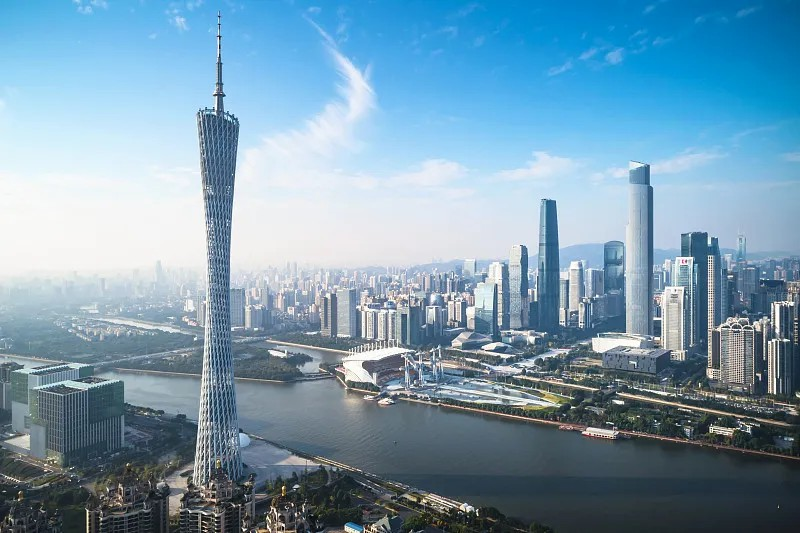Canton: (195, 10, 245, 500)
